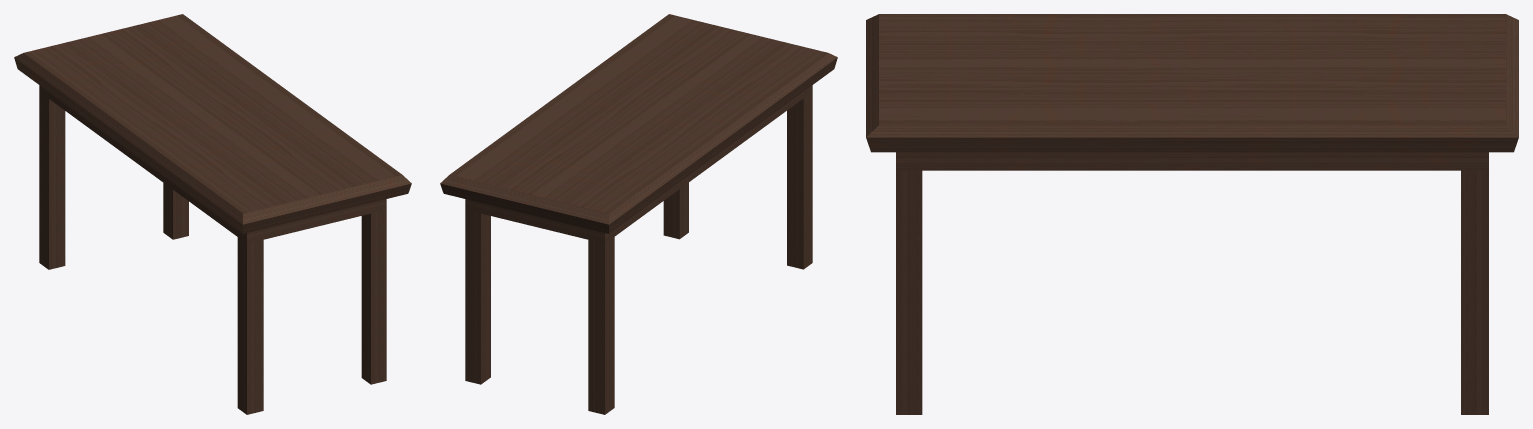
The model's file is 3dmodel_workbench_v1_sc.fbx.
The picture shows the model from 3 angles, left to right: view 1: azimuth 30°, elevation 25°; view 2: azimuth 150°, elevation 25°; view 3: azimuth 270°, elevation 25°; orthographic projection. The views are drawn at different scales.
Visible parts, largest first — view 1: workbench; view 2: workbench; view 3: workbench.
Boxes of the visible parts, box(x1,y1,x2,y2) form: workbench: box(14, 14, 411, 414); workbench: box(440, 14, 837, 414); workbench: box(866, 14, 1518, 414).
Bounding box in the file's own units: 0.8494 × 0.9988 × 1.99.
